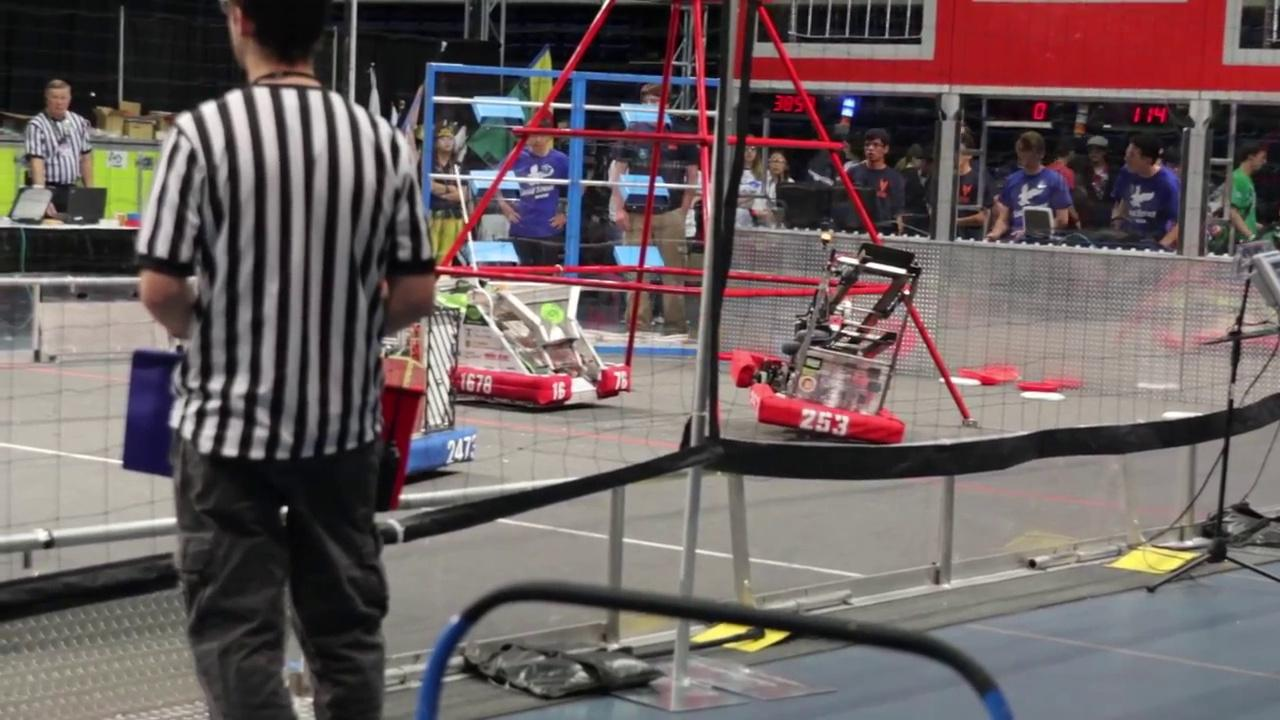robot: (729, 230, 925, 444), (454, 279, 628, 408), (382, 303, 474, 480)
